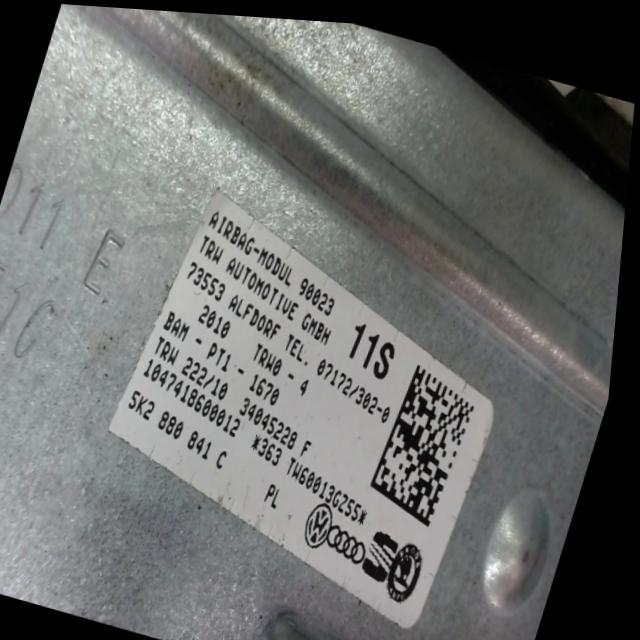datamatrix: (372, 355, 489, 524)
